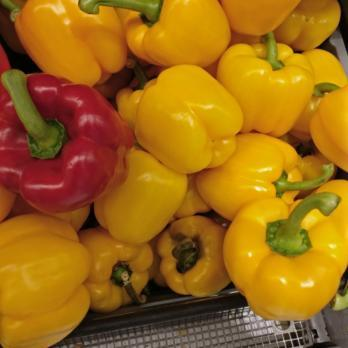Capsicum: (89, 3, 348, 321), (0, 1, 86, 348)
